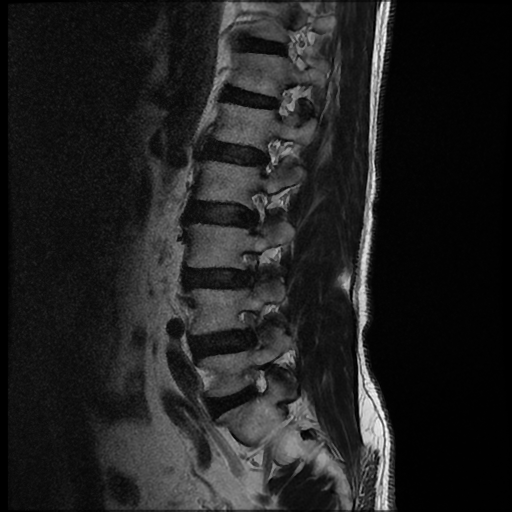LFS0: (236, 183, 276, 242), (249, 127, 290, 183), (234, 361, 275, 407)
LFS2: (228, 244, 274, 298), (229, 303, 272, 358)
